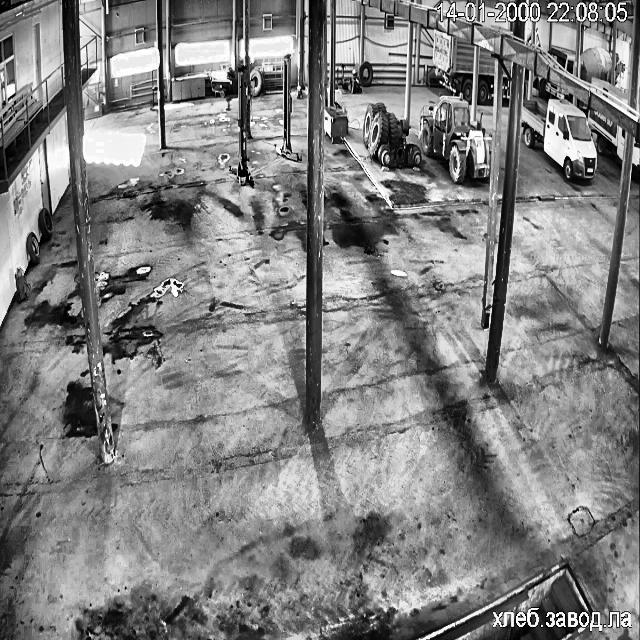car lift: (230, 66, 253, 186), (275, 54, 296, 161)
fire extinguisher: (16, 268, 28, 300)
tractor: (420, 96, 490, 182), (362, 102, 420, 166)
truck: (521, 100, 596, 180), (432, 28, 473, 100), (588, 108, 624, 158), (580, 46, 612, 83), (477, 48, 494, 102), (534, 77, 571, 99), (592, 80, 628, 102), (549, 45, 574, 73), (632, 140, 640, 178), (499, 73, 508, 99), (616, 57, 624, 76), (504, 60, 511, 75)
